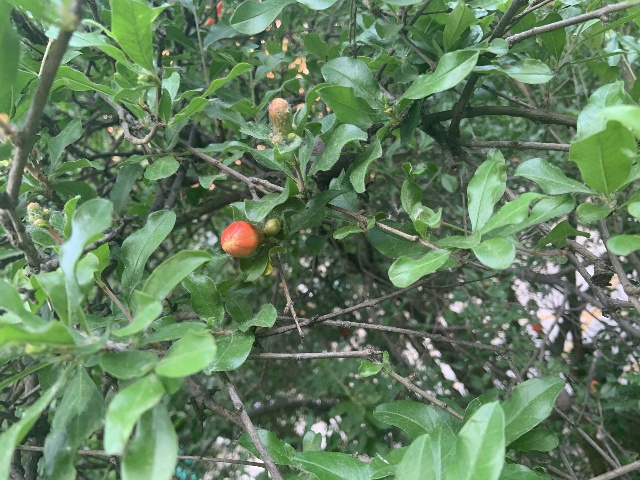bud: (220, 220, 263, 257), (268, 98, 293, 134), (263, 218, 281, 237)
